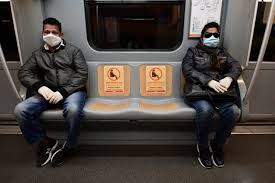Good: (16, 19, 242, 168)
